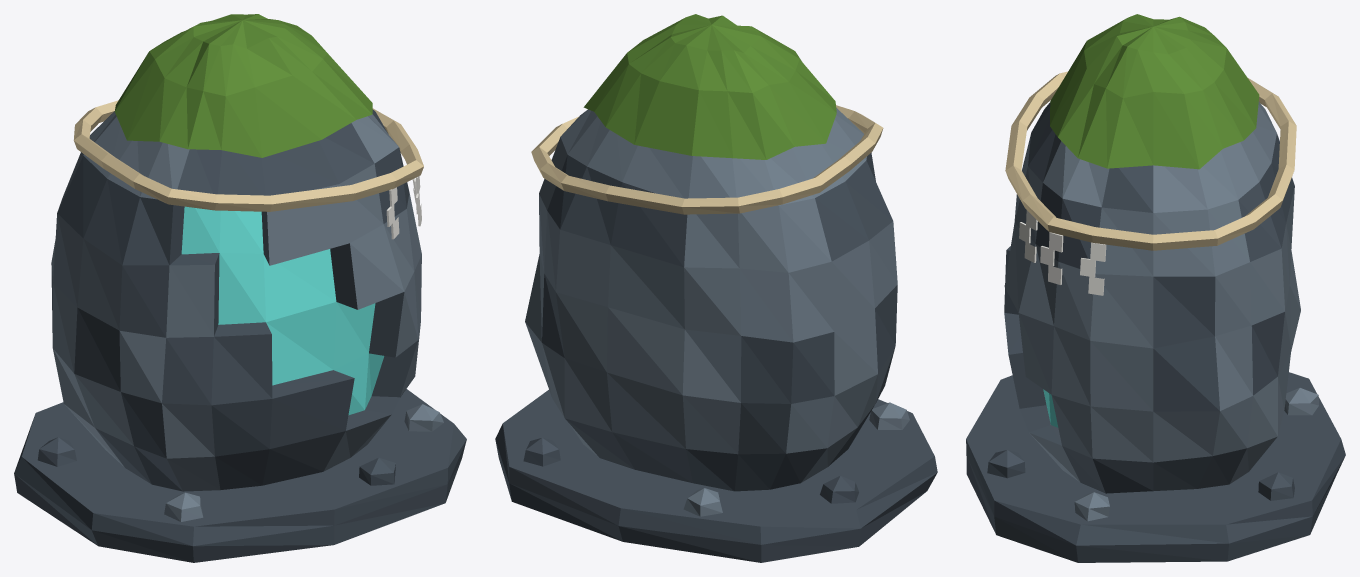
File: sacred-boulder.glb
The picture shows the model from 3 angles, left to right: view 1: azimuth 30°, elevation 25°; view 2: azimuth 150°, elevation 25°; view 3: azimuth 270°, elevation 25°; orthographic projection.
Parts seen in each view (by area): view 1: RockDark, Rock, Moss, Glow, Rope, Paper; view 2: Rock, RockDark, Moss, Rope; view 3: RockDark, Rock, Moss, Rope, Paper.
Boxes of the visible parts, bbox=[...] form: RockDark: bbox=[14, 109, 466, 562]; Rock: bbox=[51, 111, 443, 521]; Moss: bbox=[114, 14, 372, 157]; Glow: bbox=[181, 206, 384, 415]; Rope: bbox=[73, 100, 423, 211]; Paper: bbox=[386, 176, 421, 239]; Rock: bbox=[525, 108, 909, 516]; RockDark: bbox=[495, 152, 937, 562]; Moss: bbox=[583, 14, 836, 159]; Rope: bbox=[531, 105, 883, 214]; RockDark: bbox=[966, 102, 1345, 562]; Rock: bbox=[1004, 102, 1318, 521]; Moss: bbox=[1050, 14, 1259, 169]; Rope: bbox=[1005, 71, 1296, 250]; Paper: bbox=[1019, 210, 1106, 295].
Bounding box in the file's own units: 6.04 × 7 × 5.37.
